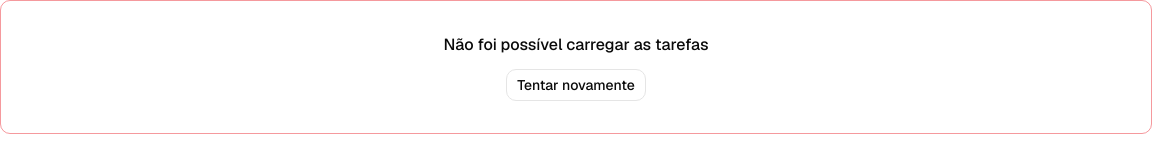
Test: TarefasPagina › erro do servidor mostra ErroAoCarregar e Tentar novamente refaz a consulta
expect the message shows "Não foi possível carregar": met, box [444, 34, 708, 55]
Click the button "Tentar novamente": point(576, 85) [506, 69, 646, 101]
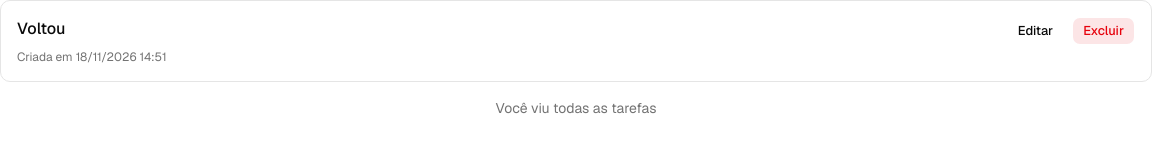
expect the heading "Voltou" is shown: met, box [17, 18, 65, 39]
